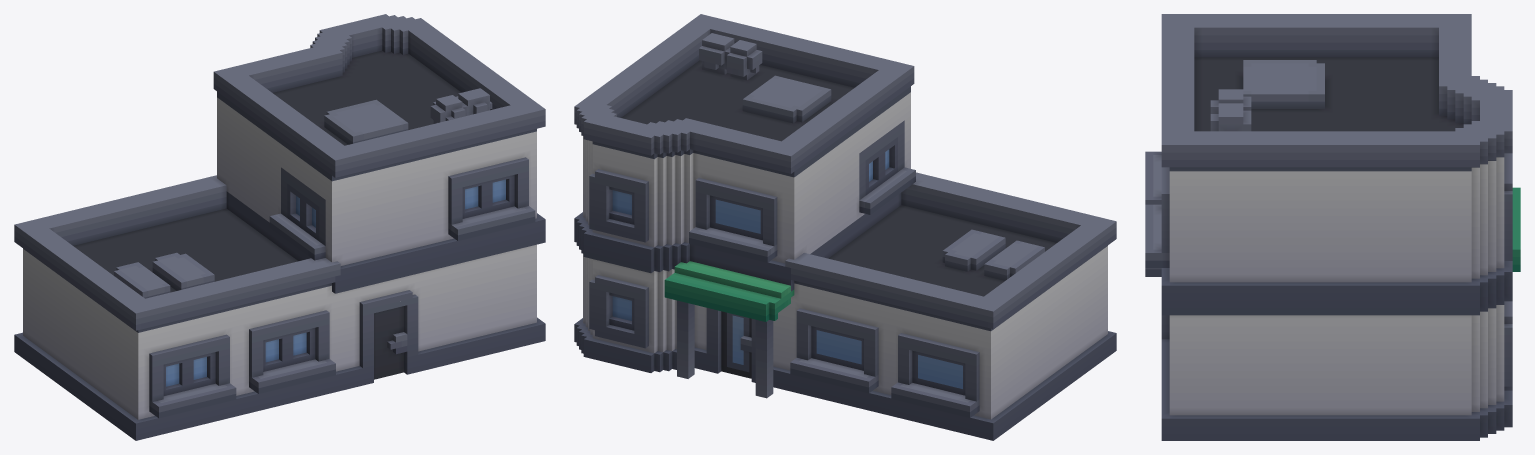
File: building_e.glb
3 views of the same model, side by side, from view 1: azimuth 30°, elevation 25°; view 2: azimuth 150°, elevation 25°; view 3: azimuth 270°, elevation 25° (orthographic). The views are drawn at different scales.
Visible parts, largest first — view 1: voxels; view 2: voxels; view 3: voxels.
Boxes of the visible parts, <box> form: voxels: <box>14,14,545,440</box>; voxels: <box>574,14,1116,440</box>; voxels: <box>1145,14,1520,440</box>.
Bounding box in the file's own units: 1.65 × 0.9153 × 1.03.
